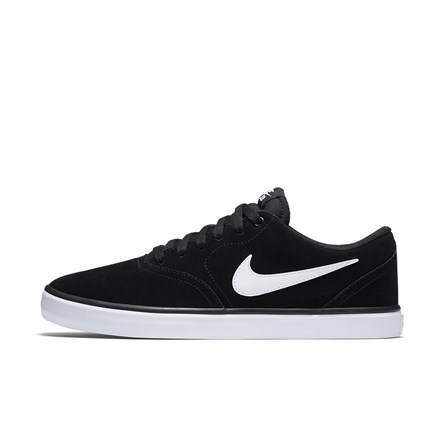nike: (227, 250, 362, 300)
